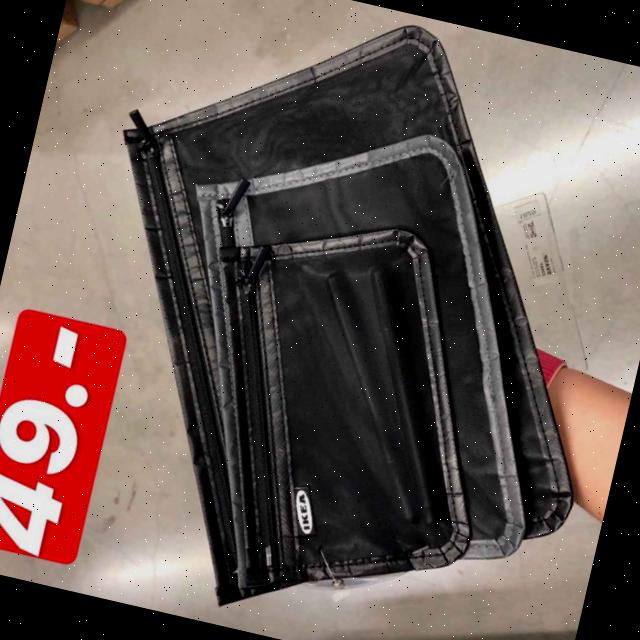Handbag: (17, 0, 640, 640)
